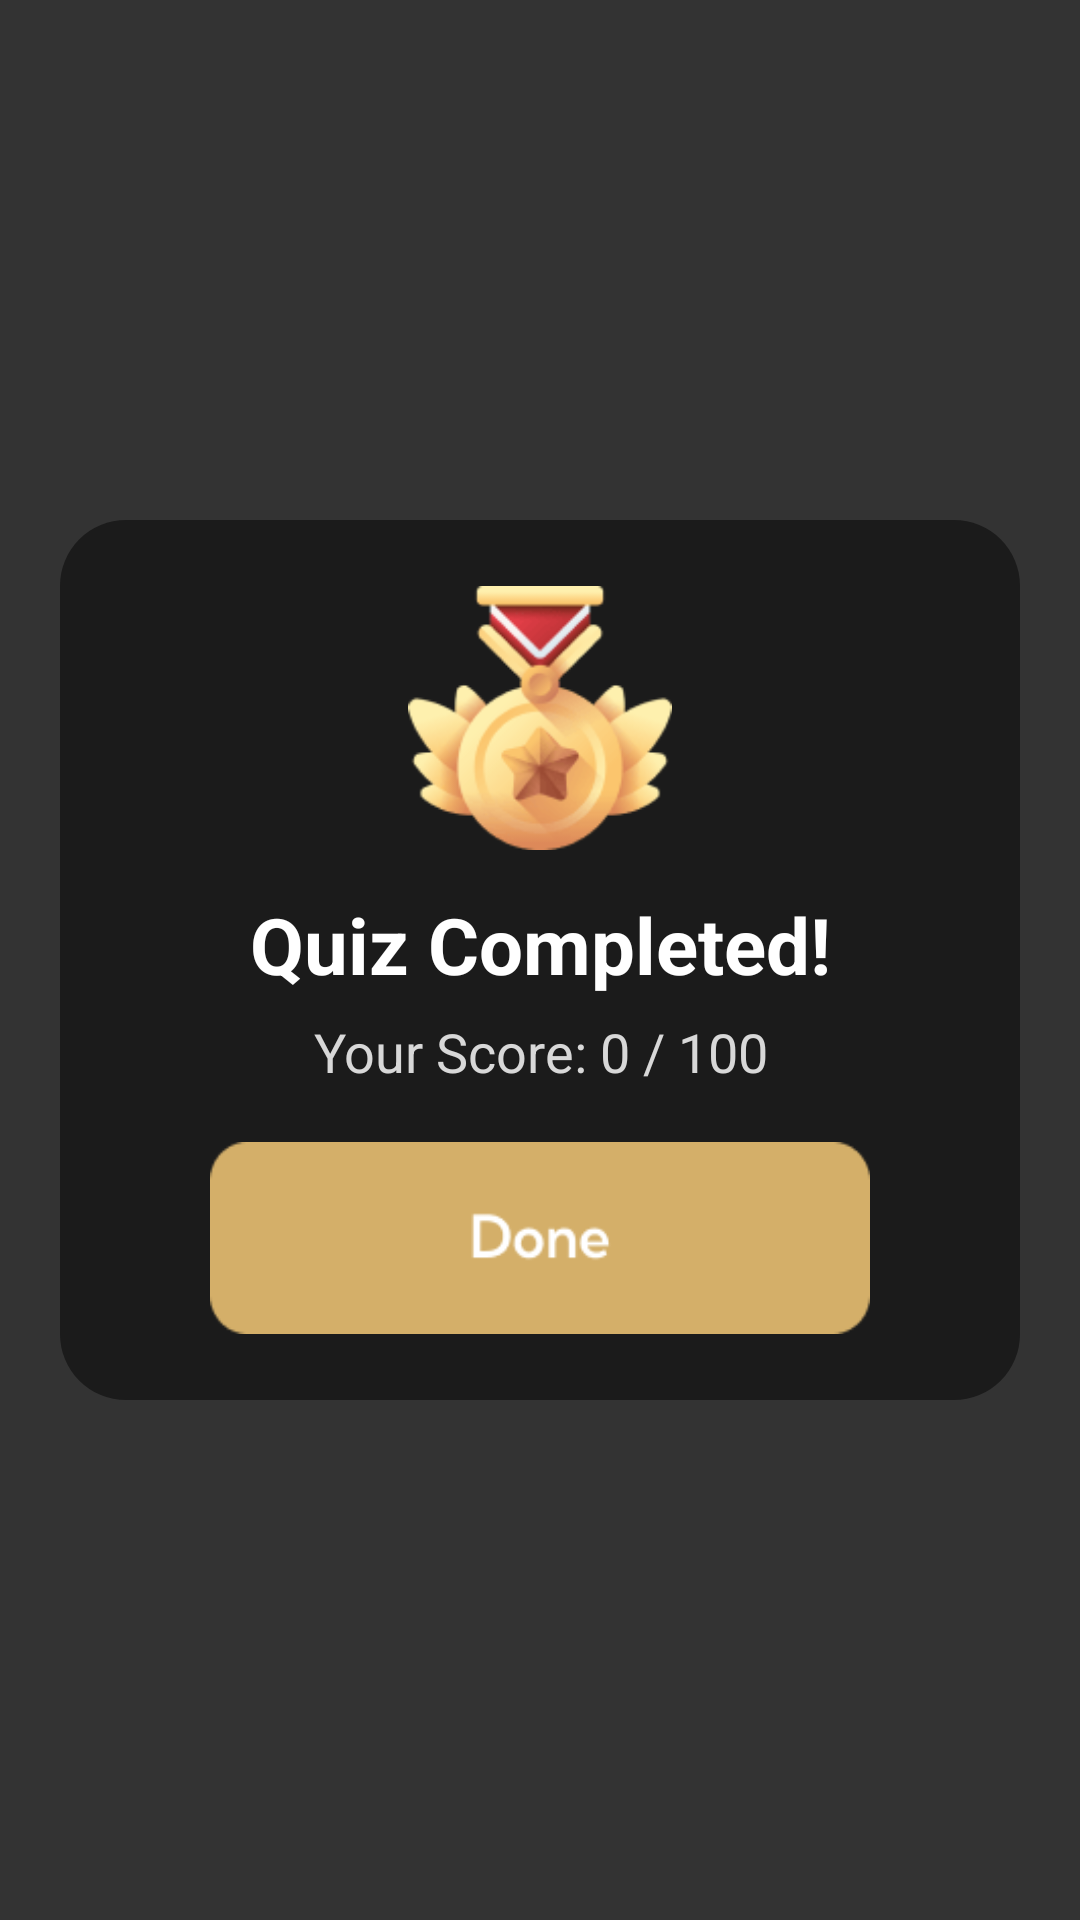

Screen size 1080*1920. Icon name, then its center in pixels as (x,y):
prize: (540,718)
